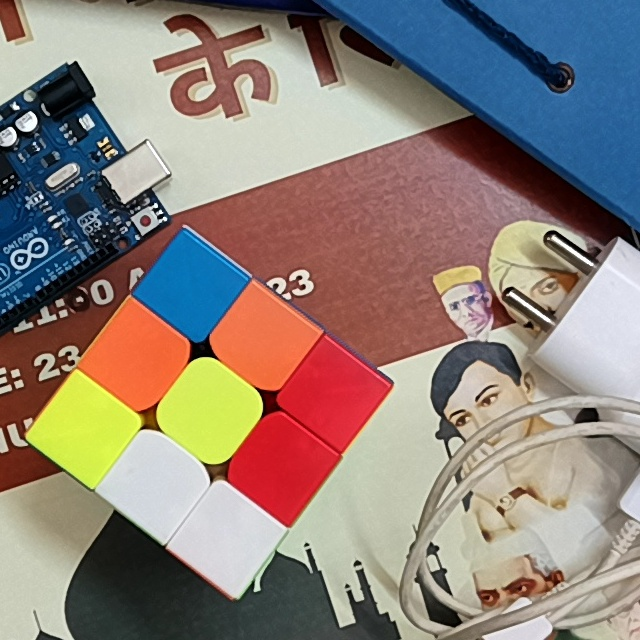tile: (125, 454, 184, 516), (181, 380, 241, 440), (252, 434, 311, 494), (232, 309, 290, 370), (197, 507, 255, 568), (162, 259, 222, 316), (109, 332, 170, 388), (304, 363, 361, 422), (56, 400, 113, 459)
